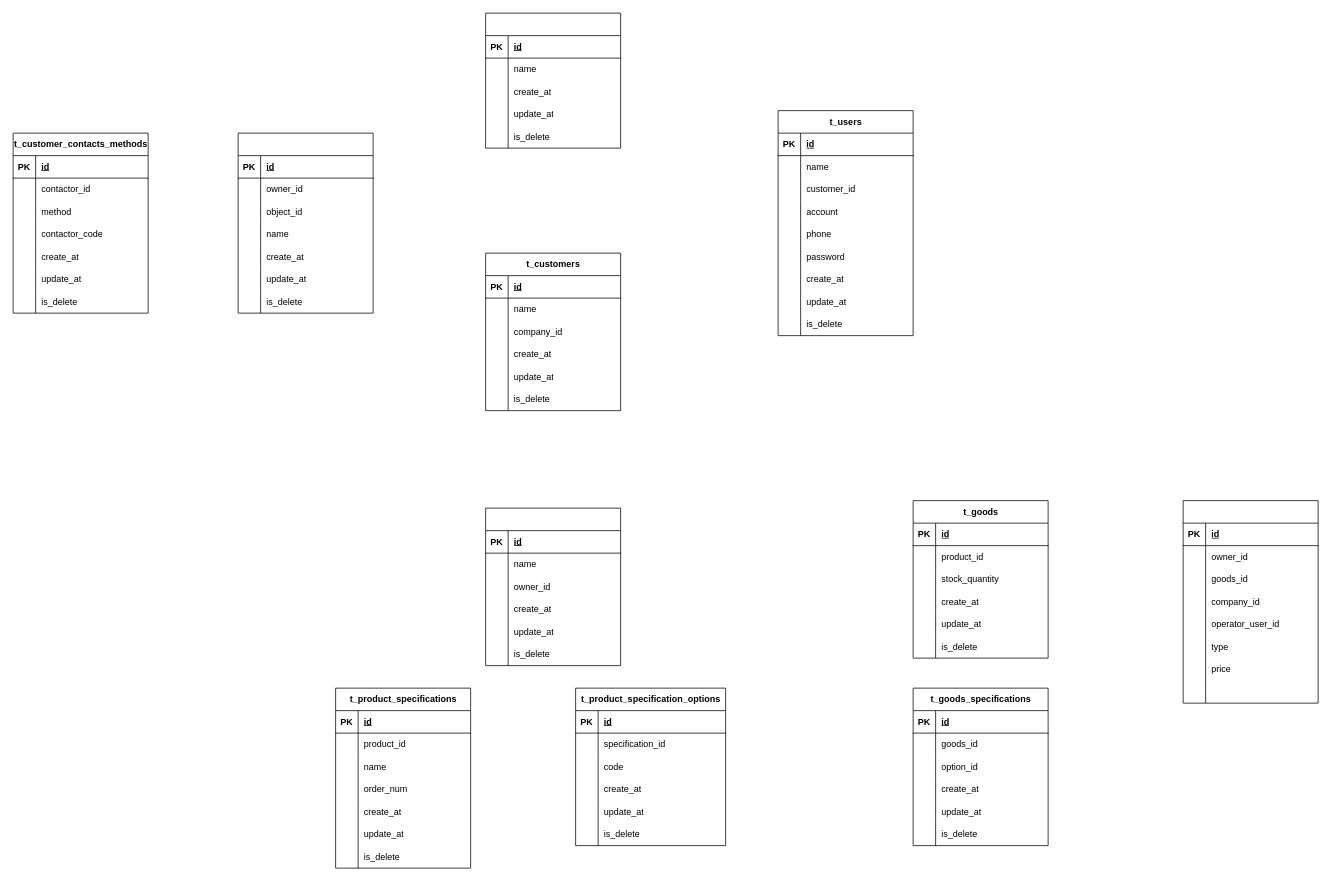
Image size: 1331x881. Some labels were removed from this diagram. The shapes that lost their labels are listed below. From the top down, each one's box as (x1, y1, x2, y2) in pixels, then its label:
(485, 12, 621, 148): t_companies
(237, 132, 373, 313): t_customer_contacts
(485, 507, 621, 666): t_products
(1182, 500, 1318, 703): t_goods_inventory_ledger
